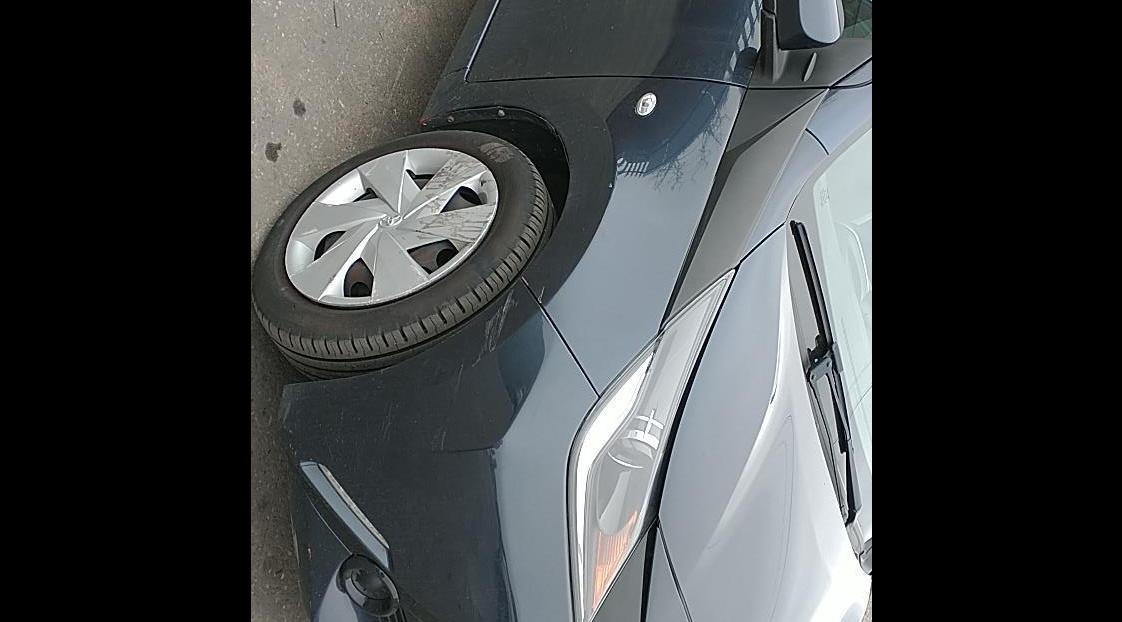Broken part: (635, 266, 740, 622)
Scratch: (397, 152, 495, 253), (470, 288, 513, 368), (455, 363, 463, 391), (536, 285, 544, 305), (303, 229, 318, 236), (305, 545, 312, 559), (440, 432, 445, 450), (520, 276, 528, 286), (329, 273, 336, 281), (608, 183, 611, 188)
